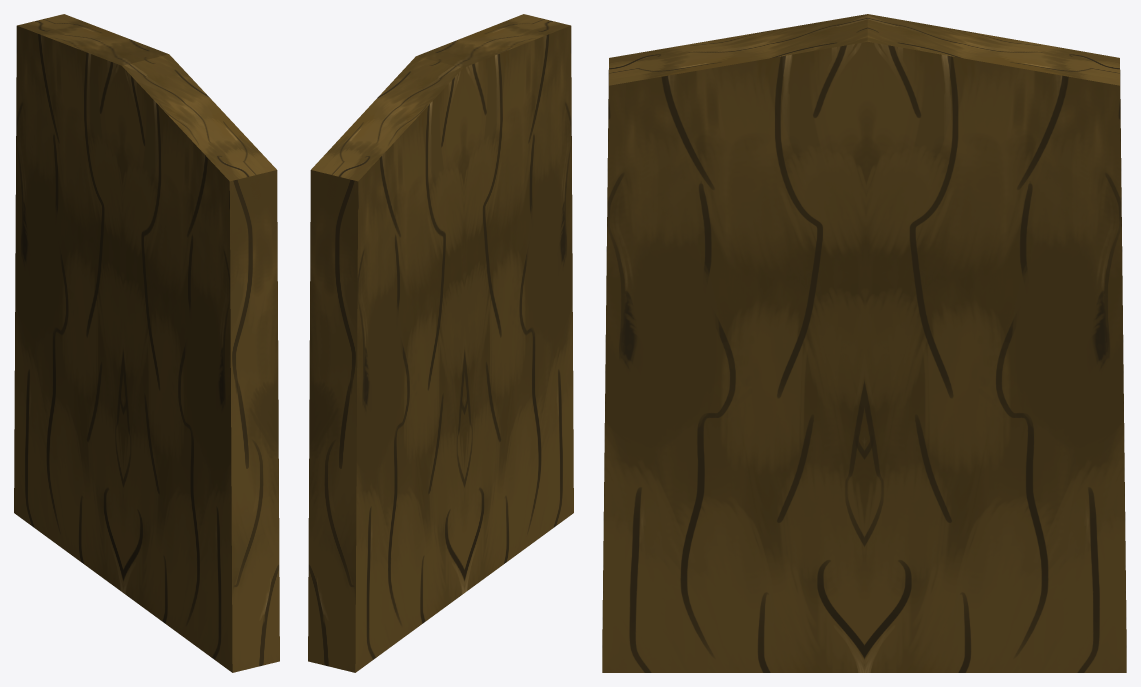
The model's file is Door_Model.fbx.
3 views of the same model, side by side, from view 1: azimuth 30°, elevation 25°; view 2: azimuth 150°, elevation 25°; view 3: azimuth 270°, elevation 25° (orthographic). The views are drawn at different scales.
Parts seen in each view (by area): view 1: polySurface2; view 2: polySurface2; view 3: polySurface2.
Part boxes in pixels (box(x1,y1,x2,y2)): polySurface2: box(14, 14, 279, 672); polySurface2: box(308, 14, 573, 672); polySurface2: box(602, 14, 1126, 672).
Size of the model in its own units: 1 by 10.6 by 7.98.
